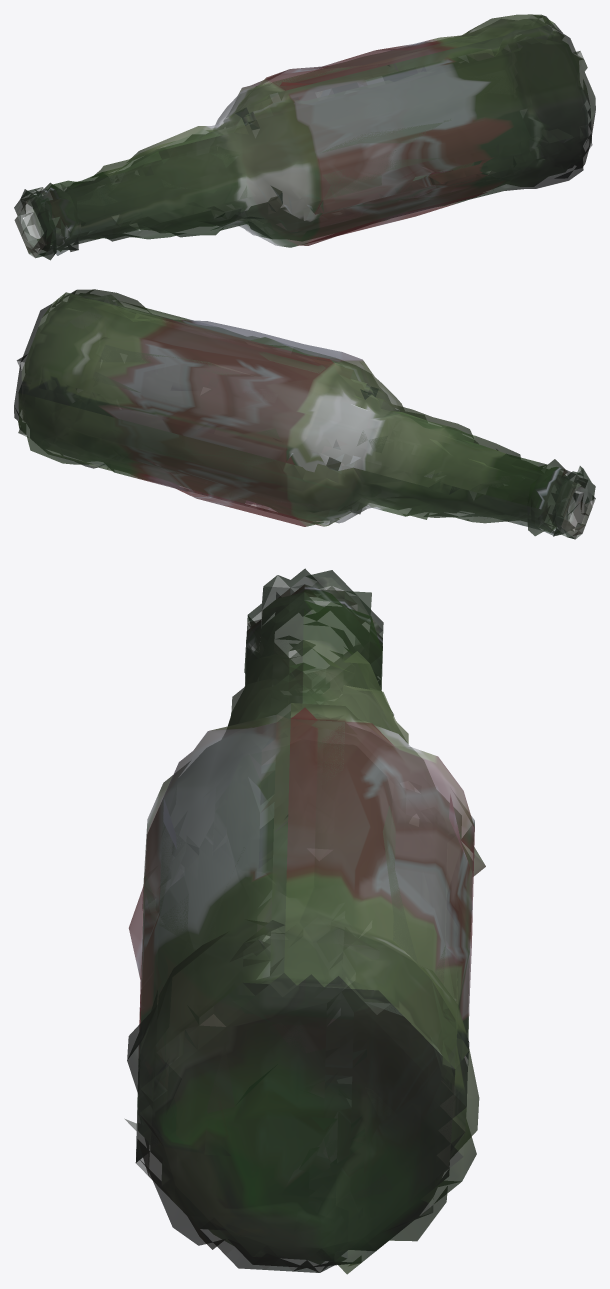
File: simplified_bottle.glb
The picture shows the model from 3 angles, top to bottom: view 1: azimuth 30°, elevation 25°; view 2: azimuth 150°, elevation 25°; view 3: azimuth 270°, elevation 25°; orthographic projection. The views are drawn at different scales.
Visible parts, largest first — view 1: Mesh_0; view 2: Mesh_0; view 3: Mesh_0.
Part boxes in pixels (bbox=[...]): Mesh_0: bbox=[14, 14, 595, 260]; Mesh_0: bbox=[14, 289, 595, 539]; Mesh_0: bbox=[125, 568, 485, 1274].
Bounding box in the file's own units: 1.61 × 0.4732 × 0.4788.
1 material, 1 textured.
